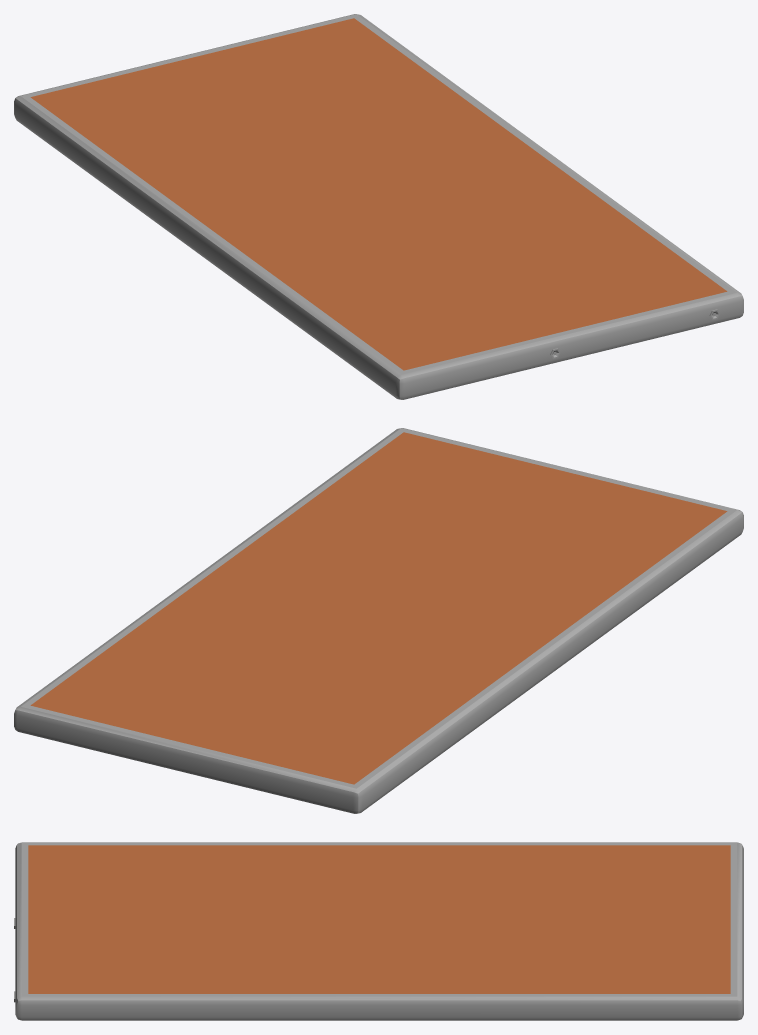
Rendered from m_prop_Tablet_02.fbx.
3 renders of one model, top to bottom at view 1: azimuth 30°, elevation 25°; view 2: azimuth 150°, elevation 25°; view 3: azimuth 270°, elevation 25°, orthographic. The views are drawn at different scales.
Visible parts, largest first — view 1: pCube15; view 2: pCube15; view 3: pCube15.
Boxes of the visible parts, x1=… form: pCube15: x1=14, y1=14, x2=743, y2=399; pCube15: x1=14, y1=428, x2=743, y2=813; pCube15: x1=14, y1=842, x2=743, y2=1020.
Bounding box in the file's own units: 12.87 × 1.13 × 24.88.
